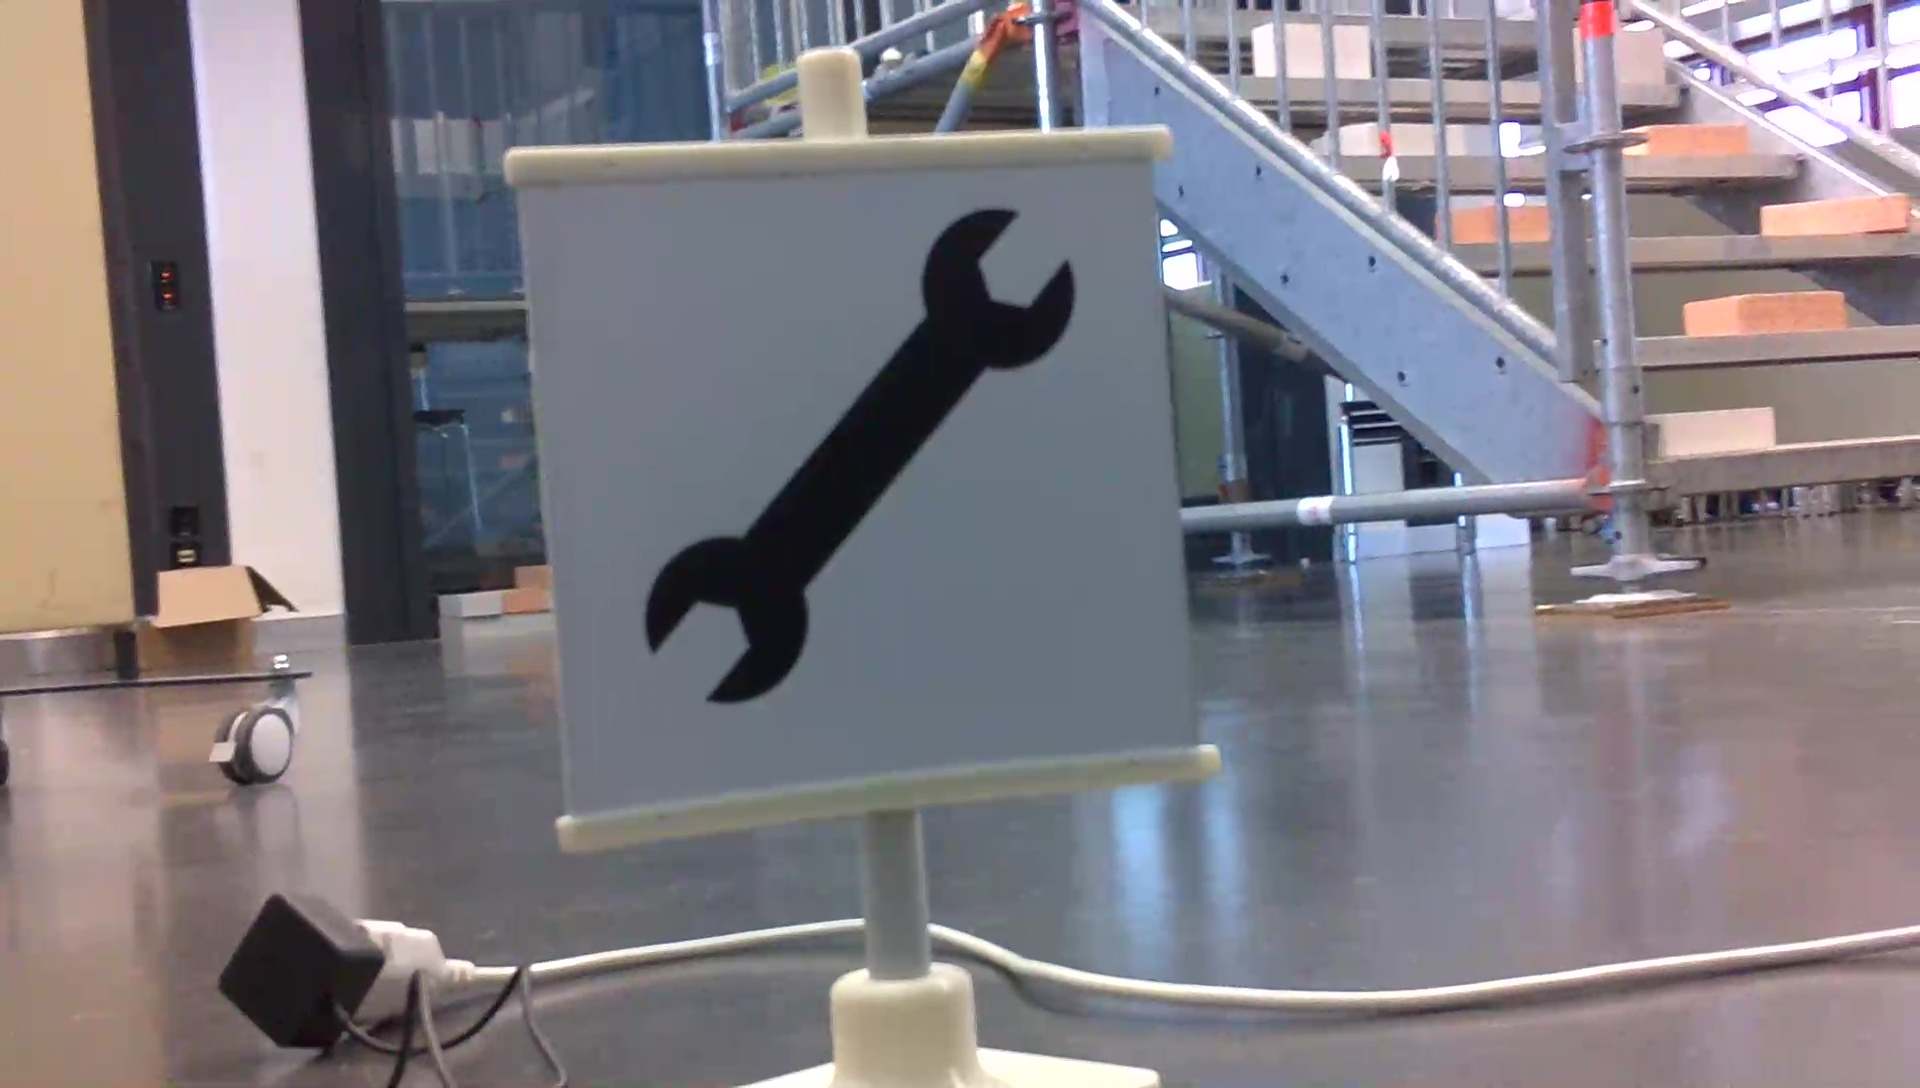brick: (1683, 293, 1841, 332), (1763, 195, 1905, 233), (1654, 408, 1774, 448), (1633, 127, 1745, 158), (1613, 30, 1663, 84)
wrench: (634, 200, 1080, 717)
